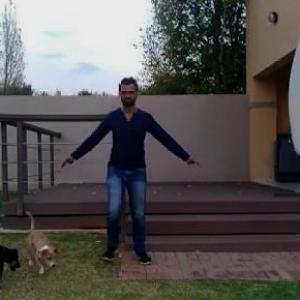land: (64, 88, 210, 253)
